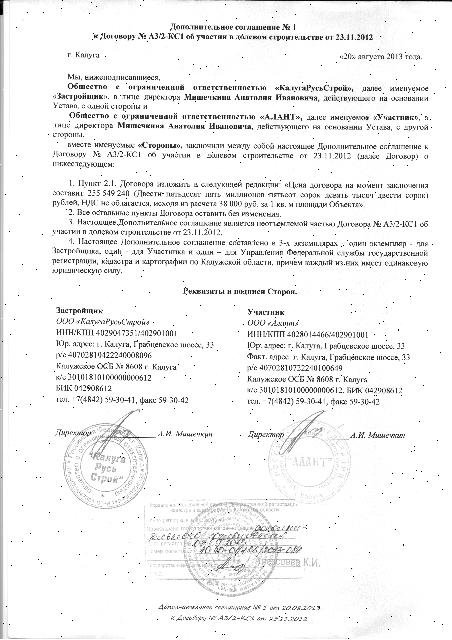stamp: (184, 500, 278, 594), (62, 424, 148, 508)
